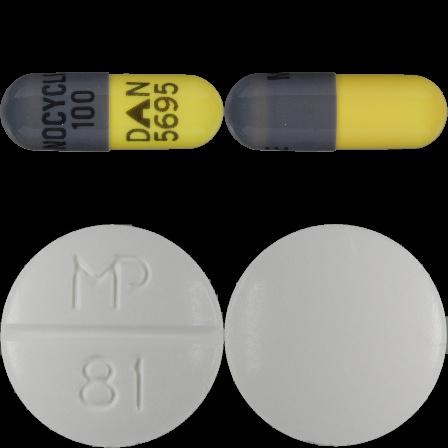61786-744: (0, 0, 224, 224)
